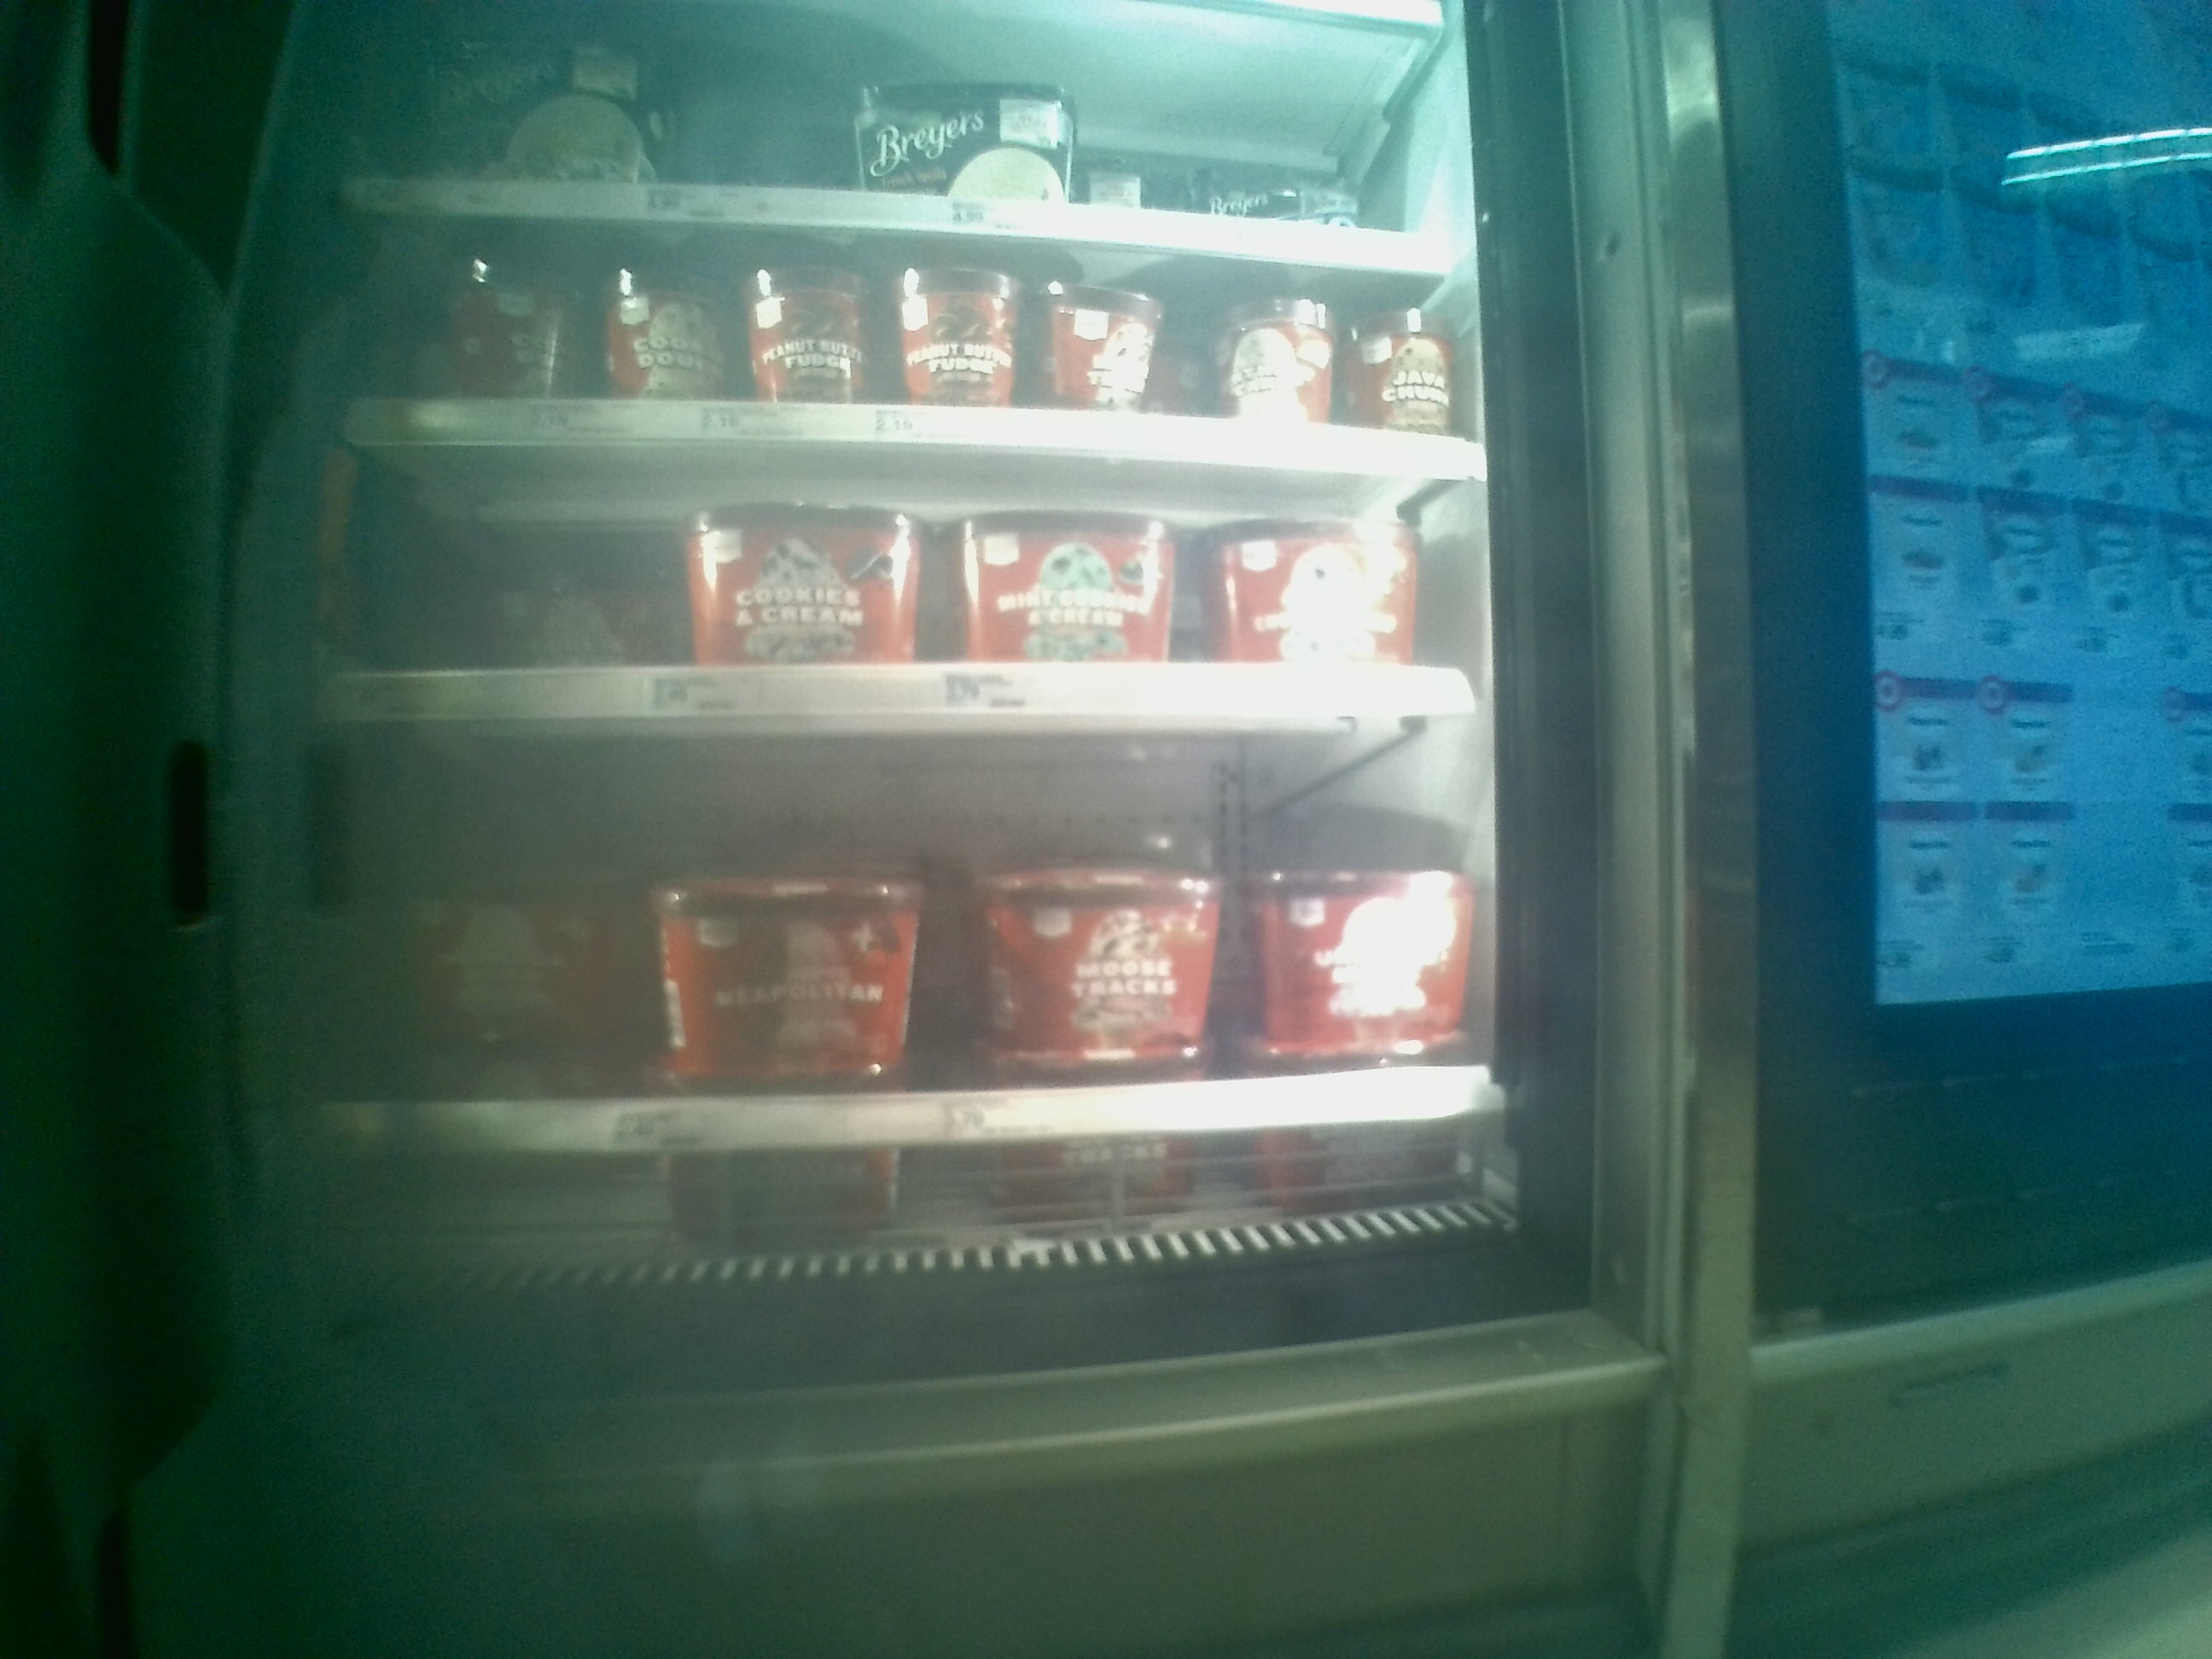shelf: (331, 758, 1521, 1126), (331, 211, 1486, 486), (320, 476, 1479, 746)
